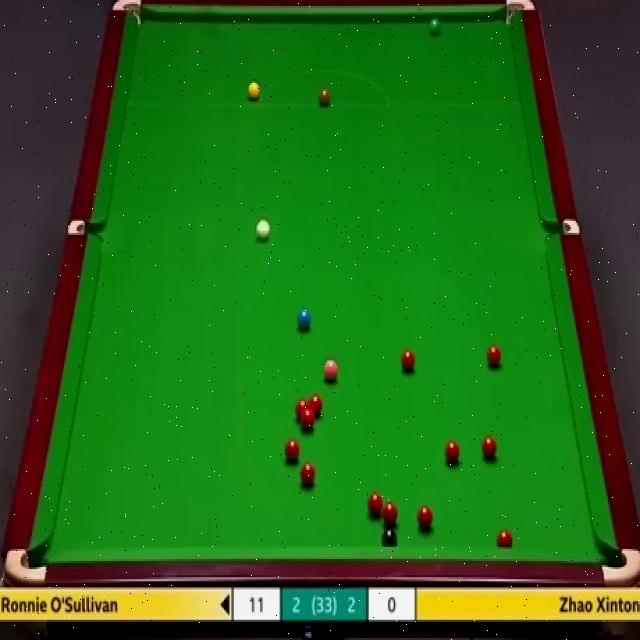black-ball: (381, 528, 398, 546)
blue-ball: (296, 308, 313, 330)
brown-ball: (318, 84, 331, 106)
green-ball: (428, 18, 442, 37)
pink-ball: (323, 360, 339, 384)
red-ball: (443, 440, 462, 466), (416, 506, 434, 533), (400, 346, 417, 374), (281, 441, 301, 464), (366, 493, 384, 518), (383, 499, 398, 529), (482, 436, 499, 460), (486, 344, 501, 370), (298, 464, 316, 485), (295, 399, 309, 424), (309, 394, 323, 418), (496, 529, 514, 546), (301, 412, 316, 432)
white-ball: (255, 218, 270, 244)
yellow-ball: (247, 83, 259, 100)
